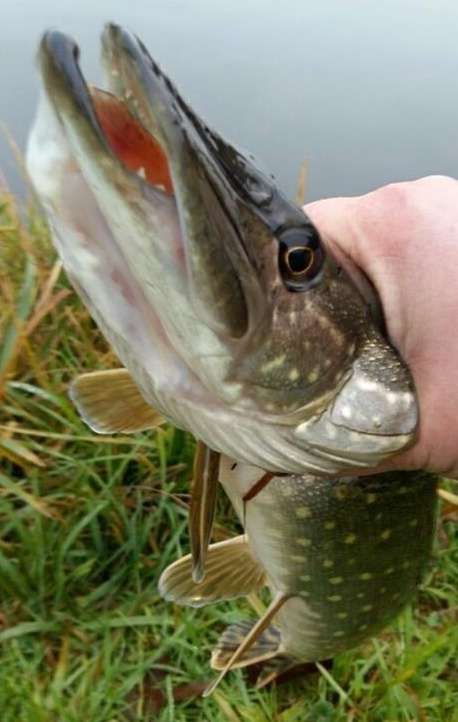Esox lucius: (20, 20, 438, 702)
